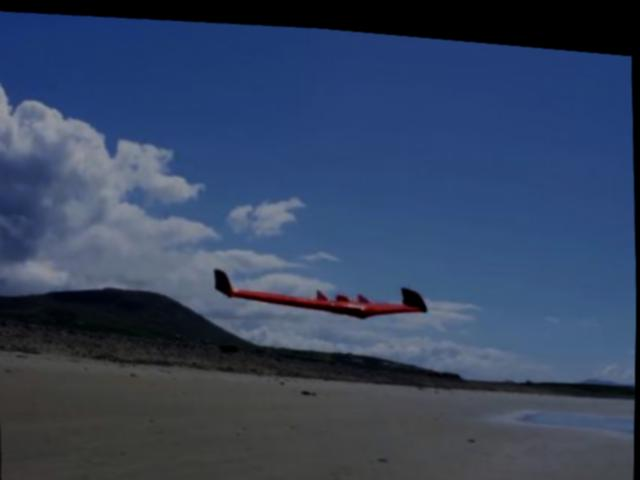flying wing: (211, 253, 431, 322)
